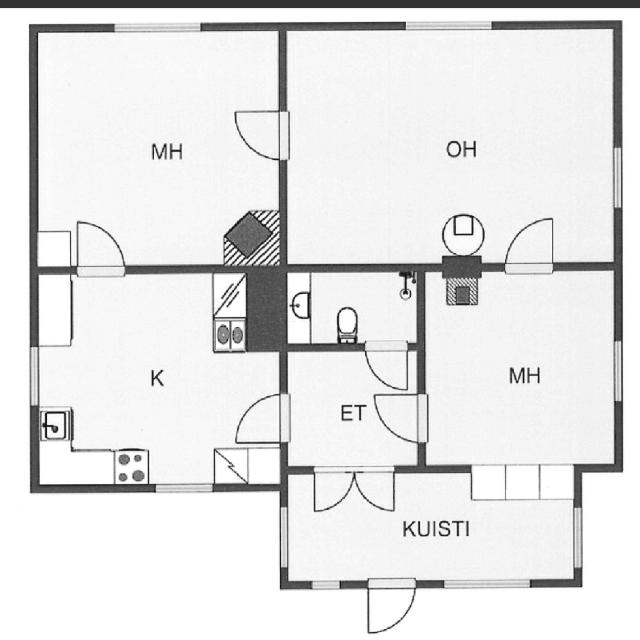door: (305, 466, 399, 514), (66, 216, 132, 284), (502, 212, 562, 277), (230, 388, 290, 448), (362, 573, 420, 635), (232, 100, 288, 162), (373, 389, 429, 448), (364, 341, 413, 390)
window: (439, 576, 536, 594), (404, 20, 494, 36), (114, 21, 204, 37), (568, 504, 587, 573), (274, 502, 292, 574), (609, 335, 627, 407), (24, 342, 43, 408), (610, 143, 626, 214), (150, 481, 218, 495)
zone: (298, 28, 603, 262), (30, 25, 284, 266), (34, 273, 280, 482), (424, 267, 620, 486), (280, 470, 566, 583), (286, 347, 420, 468), (283, 270, 420, 347)
